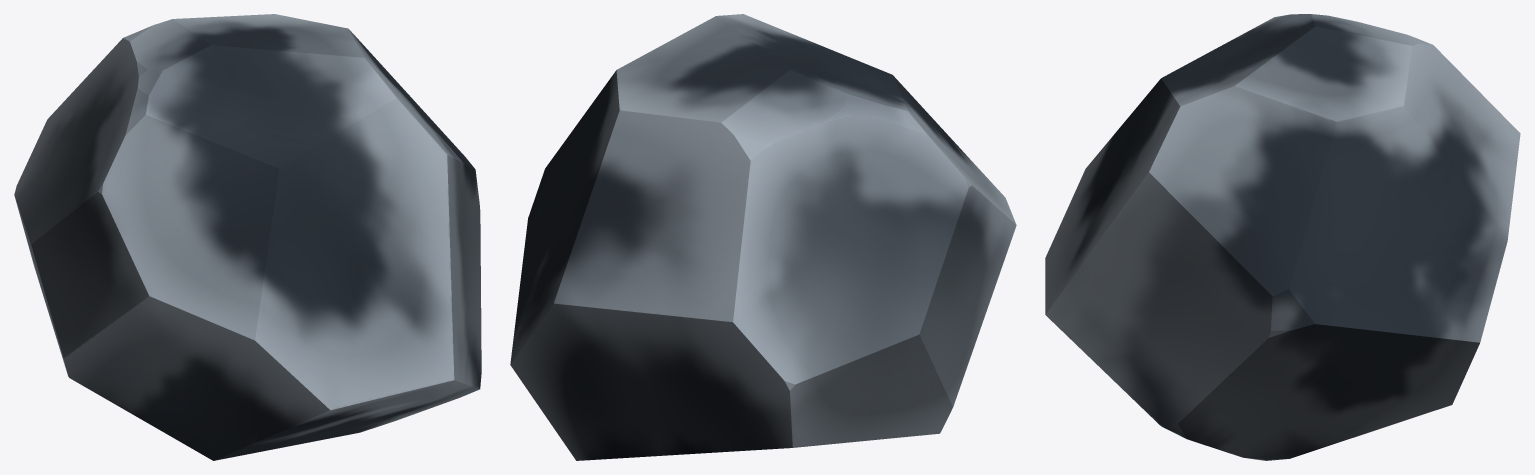
The model's file is Pedra4Caverna.fbx.
3 renders of one model, left to right at view 1: azimuth 30°, elevation 25°; view 2: azimuth 150°, elevation 25°; view 3: azimuth 270°, elevation 25°, orthographic. The views are drawn at different scales.
Visible parts, largest first — view 1: Pedra4__1_; view 2: Pedra4__1_; view 3: Pedra4__1_.
Boxes of the visible parts, box(x1,y1,x2,y2) form: Pedra4__1_: box(14, 14, 481, 460); Pedra4__1_: box(510, 14, 1016, 460); Pedra4__1_: box(1045, 14, 1520, 460).
Size of the model in its own units: 1.91 by 1.84 by 2.1.
